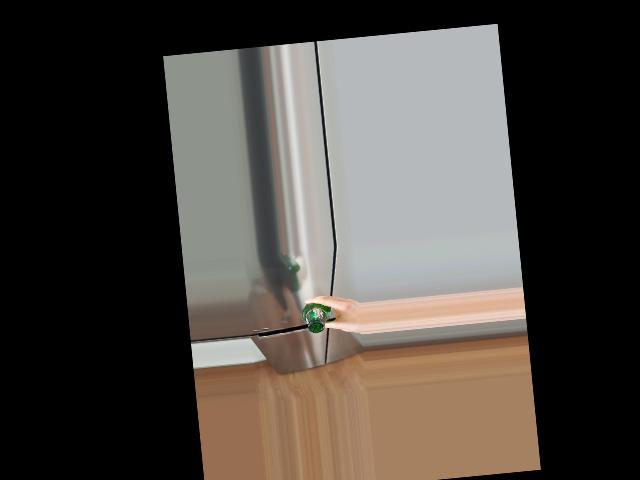beer: (301, 301, 332, 334)
